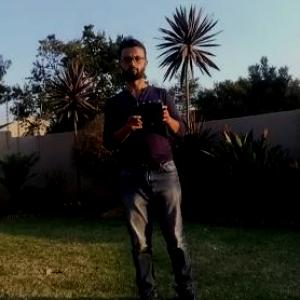follow: (97, 30, 205, 299)
